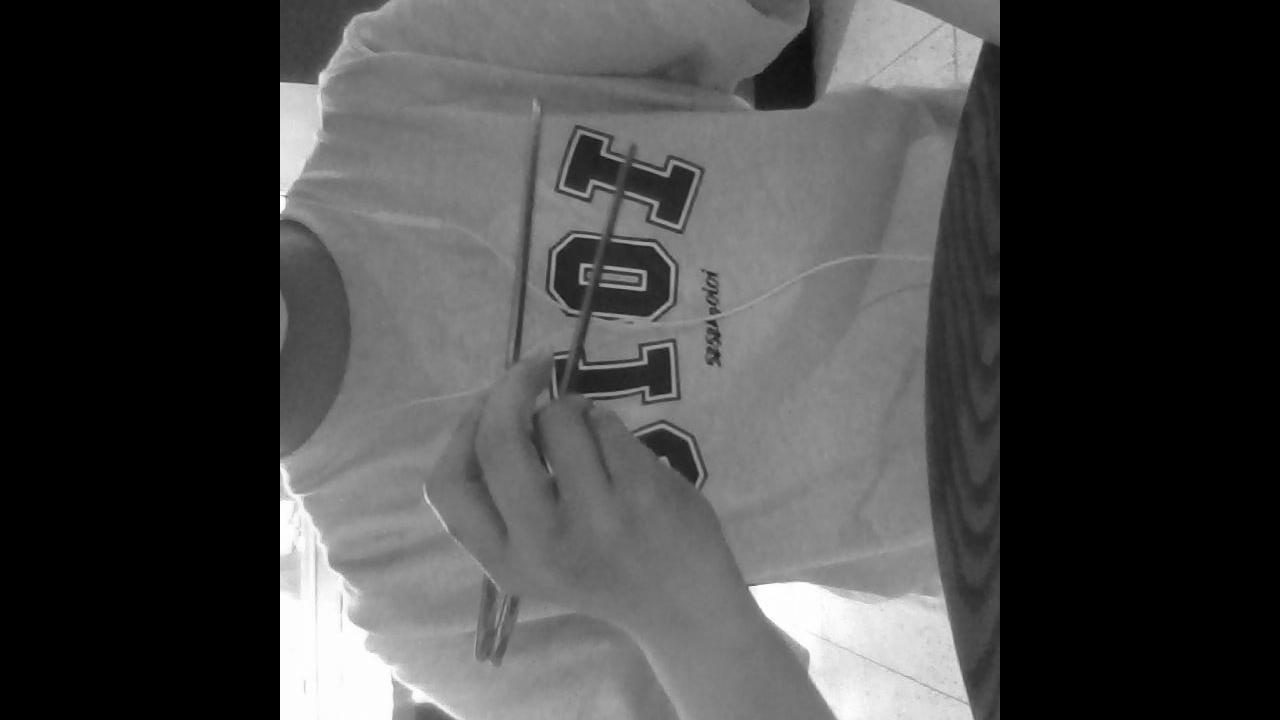chopstick: (488, 139, 639, 663), (473, 95, 545, 661)
hand: (423, 348, 741, 624)
